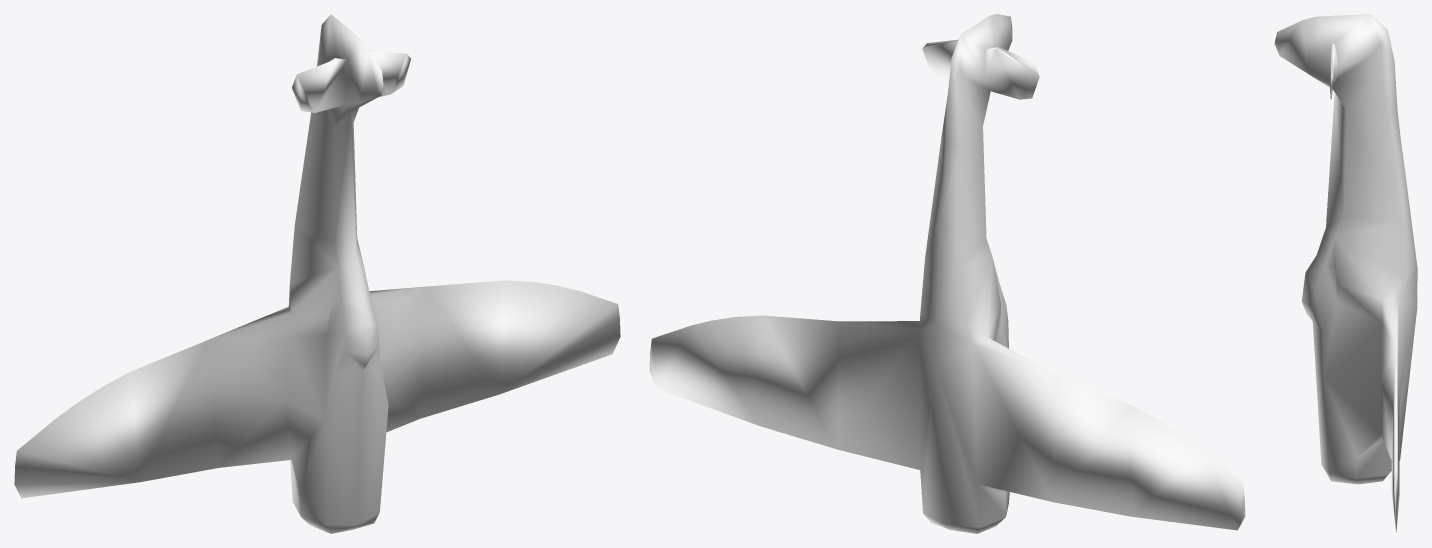
Rendered from icon.ico.obj.
The picture shows the model from 3 angles, left to right: view 1: azimuth 30°, elevation 25°; view 2: azimuth 150°, elevation 25°; view 3: azimuth 270°, elevation 25°; orthographic projection. The views are drawn at different scales.
Bounding box in the file's own units: 3.92 × 3.1 × 0.8733.
Materials: 1 (1 with a texture image).
